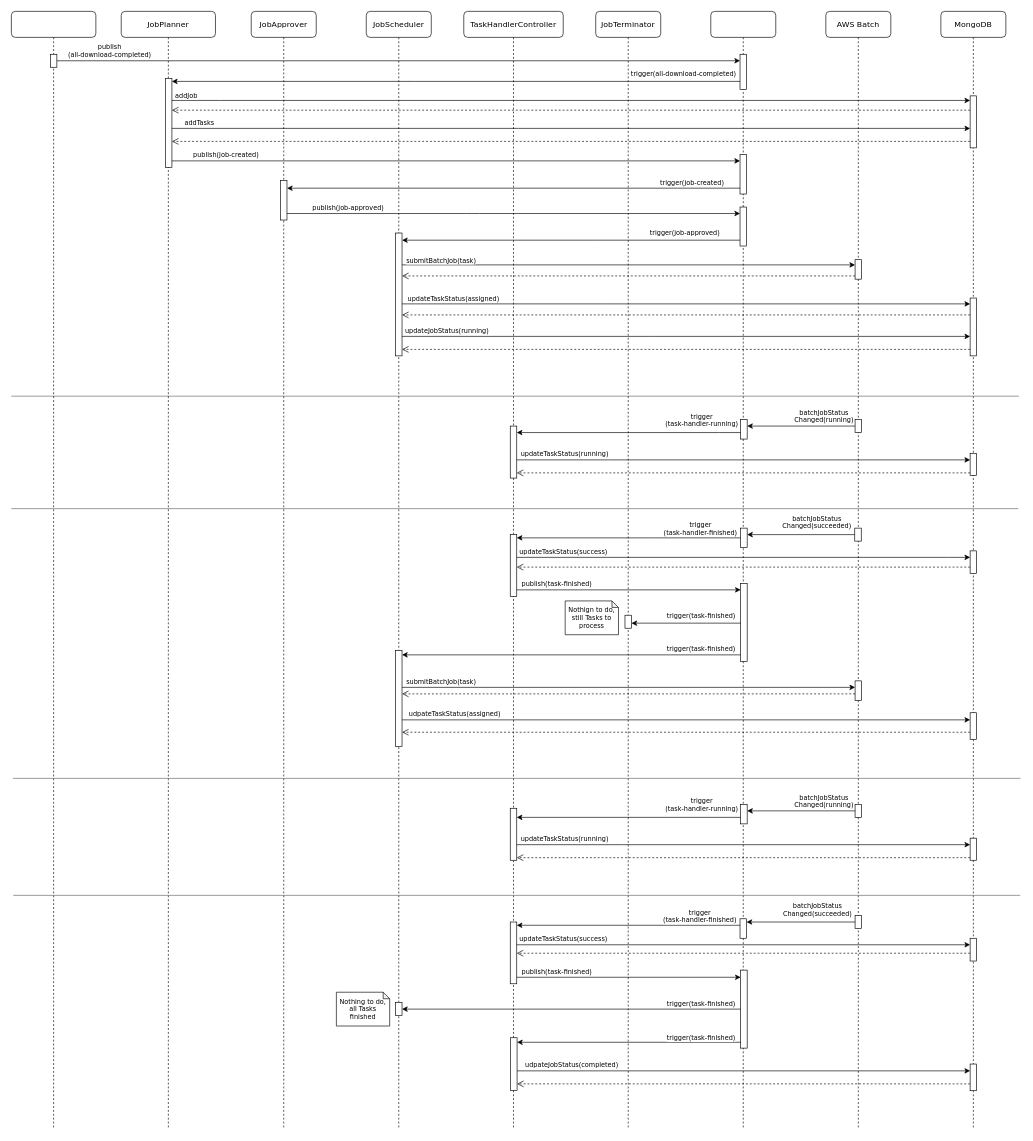
The diagram is 1033 pixels wide and 1141 high, and some of its shapes have lost their labels. Each missing label, with the box of its shape:
AWS SNS: (710, 11, 776, 1129)
DownloadManager: (11, 11, 96, 1129)
